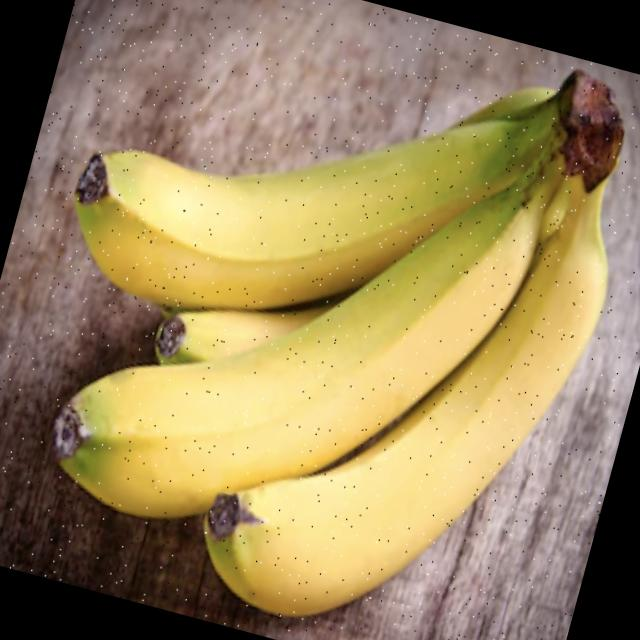banana: (8, 115, 515, 530)
